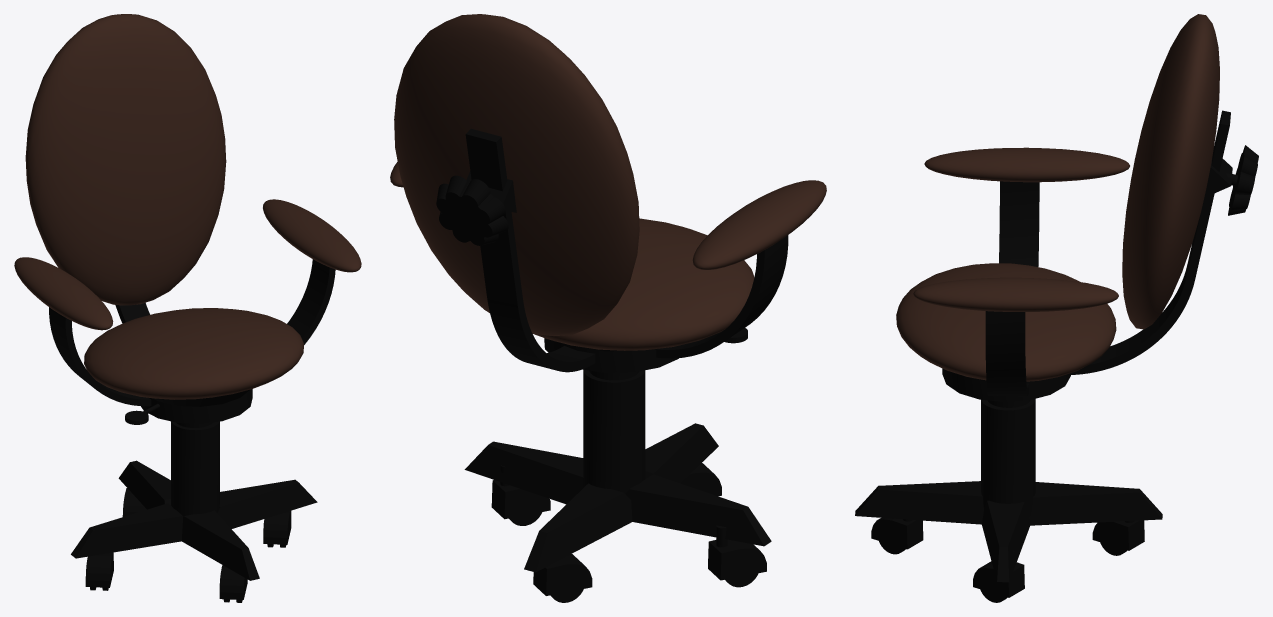
File: officeChair2.obj
3 views of the same model, side by side, from view 1: azimuth 30°, elevation 25°; view 2: azimuth 150°, elevation 25°; view 3: azimuth 270°, elevation 25° (orthographic). The views are drawn at different scales.
Parts seen in each view (by area): view 1: chair_cus5_44_44, chair_cus6_45_45, Circle32_47_47, chair_cus4_43_43, chair_cus3_42_42, Line11_38_38, Line12_39_39, Line14_41_41, Line10_35_35, Rectangle3_34_34, Rectangle2_32_32, Line13_40_40 (+4 smaller); view 2: chair_cus5_44_44, chair_cus6_45_45, Back_supp0_33_33, Circle32_47_47, chair_cus4_43_43, Line11_38_38, Line13_40_40, Line12_39_39, Rectangle2_32_32, Line14_41_41, Line10_35_35, Line08_16_16 (+4 smaller); view 3: chair_cus5_44_44, chair_cus6_45_45, chair_cus3_42_42, chair_cus4_43_43, Circle32_47_47, Line13_40_40, Line14_41_41, Back_supp0_33_33, Rectangle3_34_34, Rectangle2_32_32, Line12_39_39, Line10_35_35 (+4 smaller).
Part boxes in pixels (box(x1,y1,x2,y2)): chair_cus5_44_44: box(25, 14, 226, 305); chair_cus6_45_45: box(84, 308, 303, 399); Circle32_47_47: box(171, 421, 219, 516); chair_cus4_43_43: box(14, 257, 113, 330); chair_cus3_42_42: box(263, 199, 361, 272); Line11_38_38: box(71, 503, 183, 558); Line12_39_39: box(217, 479, 317, 528); Line14_41_41: box(181, 510, 259, 580); Line10_35_35: box(141, 389, 252, 423); Rectangle3_34_34: box(287, 259, 335, 344); Rectangle2_32_32: box(49, 307, 151, 406); Line13_40_40: box(118, 460, 170, 509); chair_cus5_44_44: box(394, 14, 639, 335); chair_cus6_45_45: box(533, 218, 754, 350); Back_supp0_33_33: box(465, 128, 595, 372); Circle32_47_47: box(583, 369, 645, 493); chair_cus4_43_43: box(692, 180, 826, 269); Line11_38_38: box(625, 474, 771, 546); Line13_40_40: box(524, 483, 632, 572); Line12_39_39: box(464, 441, 583, 504); Rectangle2_32_32: box(656, 235, 788, 358); Line14_41_41: box(645, 423, 718, 483); Line10_35_35: box(544, 338, 678, 372); Line08_16_16: box(708, 539, 766, 580); chair_cus5_44_44: box(1122, 14, 1219, 329); chair_cus6_45_45: box(896, 263, 1116, 381); chair_cus3_42_42: box(913, 277, 1118, 311); chair_cus4_43_43: box(924, 147, 1129, 182); Circle32_47_47: box(981, 399, 1035, 516); Line13_40_40: box(1029, 482, 1162, 525); Line14_41_41: box(855, 481, 983, 524); Back_supp0_33_33: box(1067, 110, 1230, 374); Rectangle3_34_34: box(985, 311, 1028, 396); Rectangle2_32_32: box(999, 181, 1039, 266); Line12_39_39: box(982, 500, 1030, 582); Line10_35_35: box(942, 368, 1070, 401).
Bounding box in the file's own units: 62.88 × 101 × 68.8.
